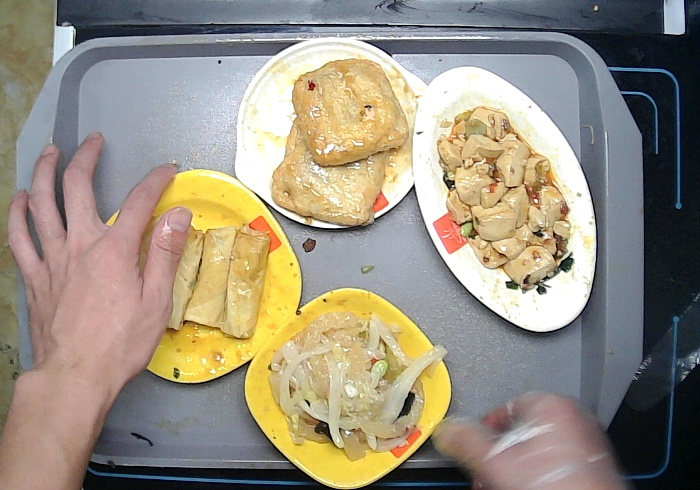SHKJ-Bao_Yu_Pan: (233, 38, 435, 234)
SHKJ-Huang_Se_Cai_Die: (244, 286, 453, 484)
SHKJ-Huang_Se_Si_Fang_Cai_Die: (95, 168, 303, 387)
SHKJ-Yu_Pan: (411, 67, 596, 333)
